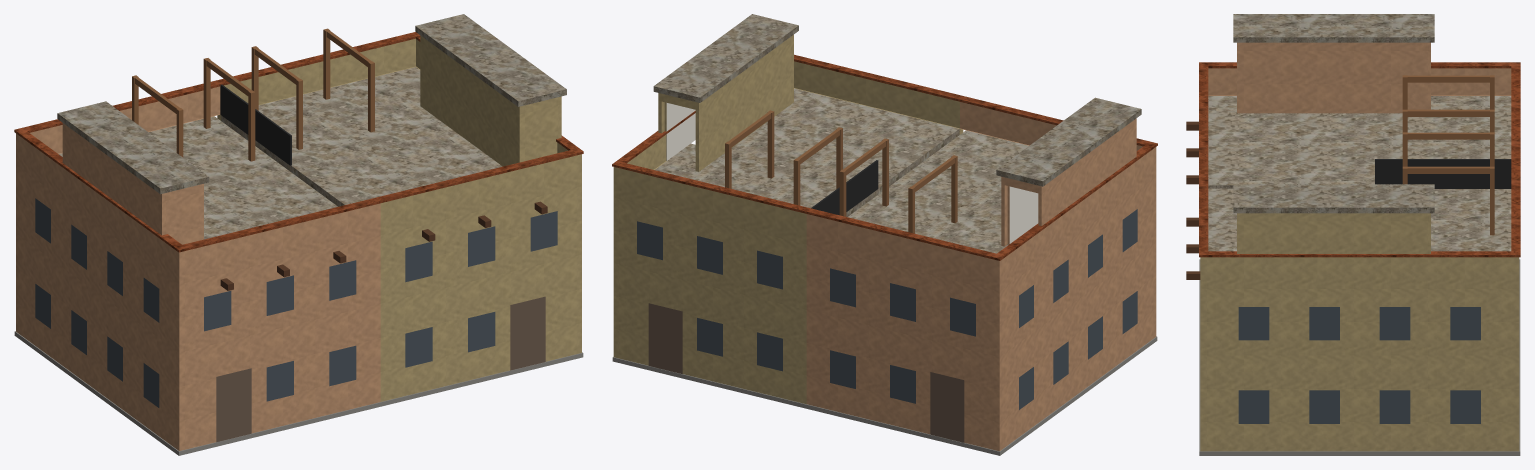
Rendered from cr-stucco-duplex.towns-v1.lod1.glb.
3 views of the same model, side by side, from view 1: azimuth 30°, elevation 25°; view 2: azimuth 150°, elevation 25°; view 3: azimuth 270°, elevation 25° (orthographic). The views are drawn at different scales.
Visible parts, largest first — view 1: cr-stucco-duplex; view 2: cr-stucco-duplex; view 3: cr-stucco-duplex.
Boxes of the visible parts, x1,y1,x2,y2 form: cr-stucco-duplex: [14, 14, 583, 455]; cr-stucco-duplex: [612, 14, 1157, 455]; cr-stucco-duplex: [1186, 14, 1520, 455].
Size of the model in its own units: 14.94 by 8.95 by 10.89.
3 materials, 2 textured.
